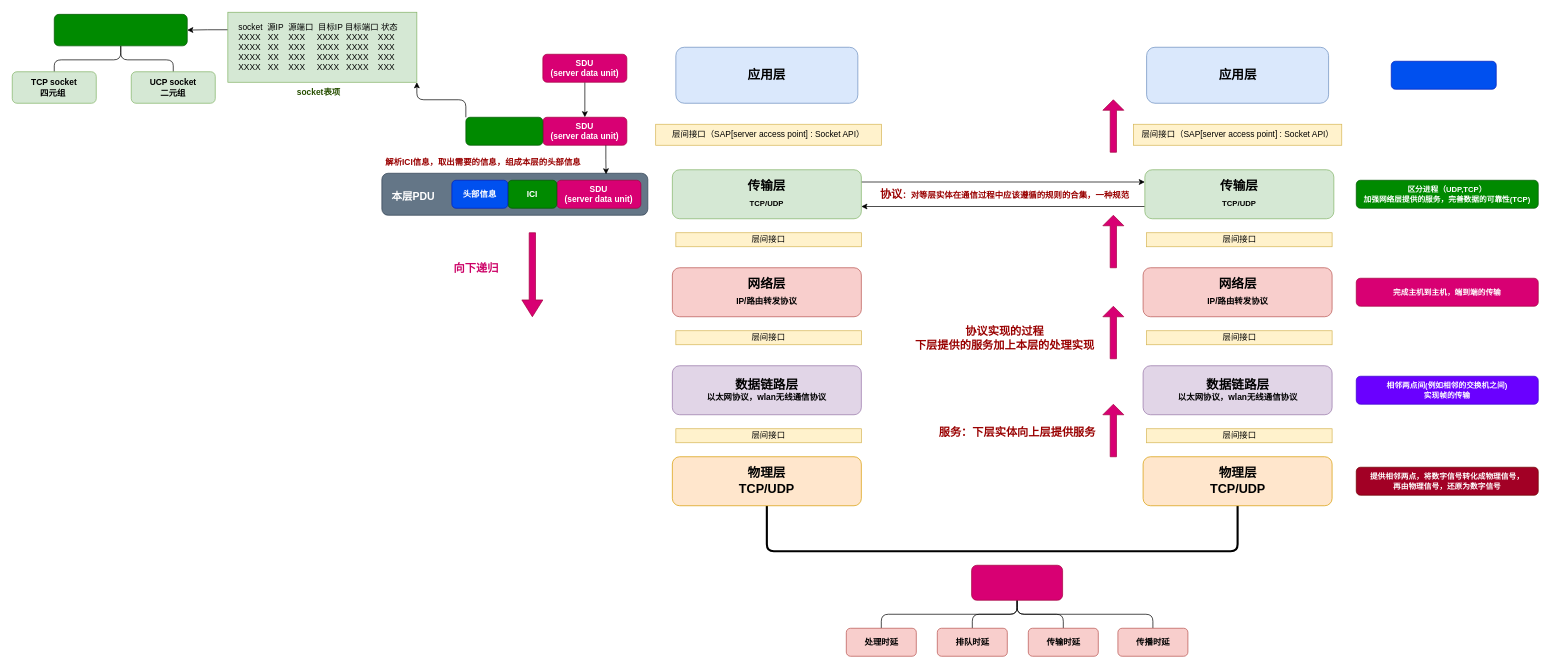
The diagram is 1551 pixels wide and 669 high, and some of its shapes have lost their labels. The shapes that lost their labels are listed below. From the top down, each one's centre as x and y in pixels, then its label:
[120,30]: Socket物理层面是一个整数 表示一个会话状态的本地标识
[1443,75]: 实现各种网络应用
[504,131]: ICI 携带socket表项等信息
[1017,582]: 分组转发
